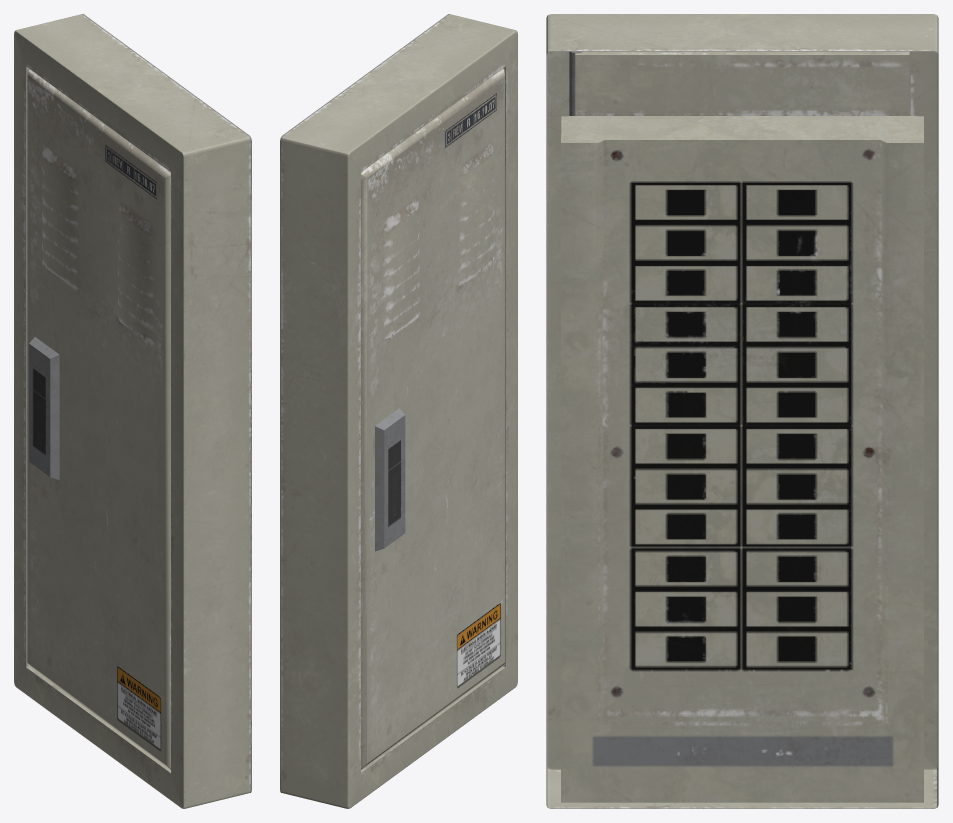
Rendered from SM_Fusebox_01a.fbx.
The picture shows the model from 3 angles, left to right: view 1: azimuth 30°, elevation 25°; view 2: azimuth 150°, elevation 25°; view 3: azimuth 270°, elevation 25°; orthographic projection. The views are drawn at different scales.
Parts seen in each view (by area): view 1: SM_Fusebox_01a_LOD0; view 2: SM_Fusebox_01a_LOD0; view 3: SM_Fusebox_01a_LOD0.
Boxes of the visible parts, x1,y1,x2,y2 form: SM_Fusebox_01a_LOD0: [14, 14, 251, 808]; SM_Fusebox_01a_LOD0: [280, 14, 517, 808]; SM_Fusebox_01a_LOD0: [546, 14, 938, 808].
Size of the model in its own units: 11.92 by 44.84 by 95.48.
1 material, 1 textured.
